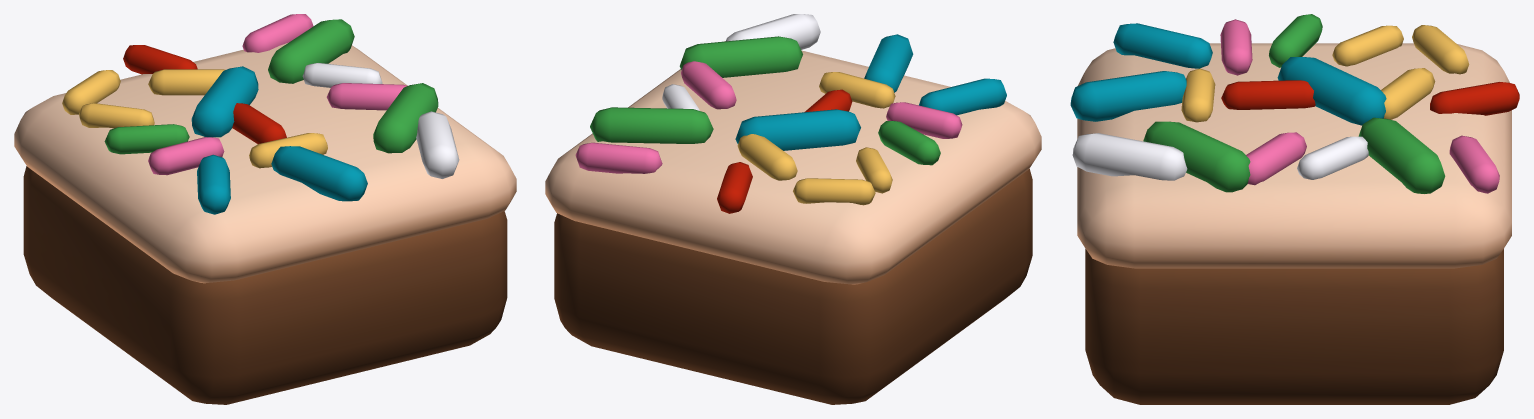
Rendered from candy_choco_25.fbx.
The picture shows the model from 3 angles, left to right: view 1: azimuth 30°, elevation 25°; view 2: azimuth 150°, elevation 25°; view 3: azimuth 270°, elevation 25°; orthographic projection. The views are drawn at different scales.
Visible parts, largest first — view 1: c_c_25; view 2: c_c_25; view 3: c_c_25.
Boxes of the visible parts, x1,y1,x2,y2 form: c_c_25: (14, 14, 516, 404); c_c_25: (545, 14, 1041, 404); c_c_25: (1070, 14, 1519, 404).
Bounding box in the file's own units: 115 × 73.2 × 119.
